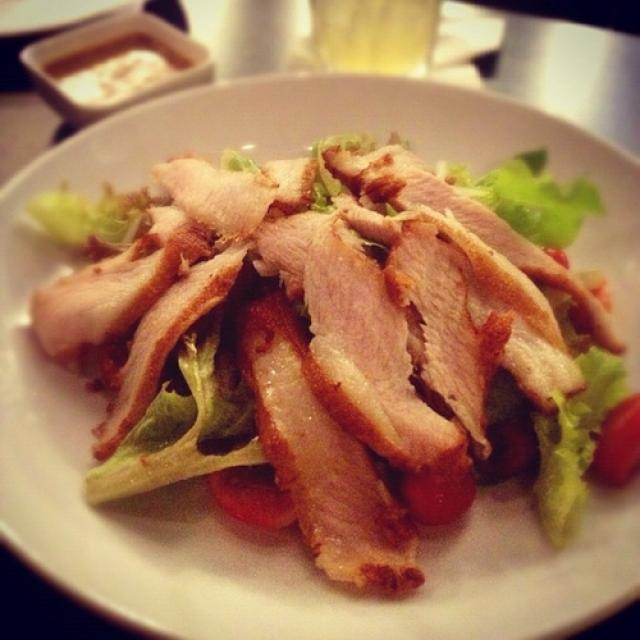猪肉菜式: (18, 28, 623, 613)
